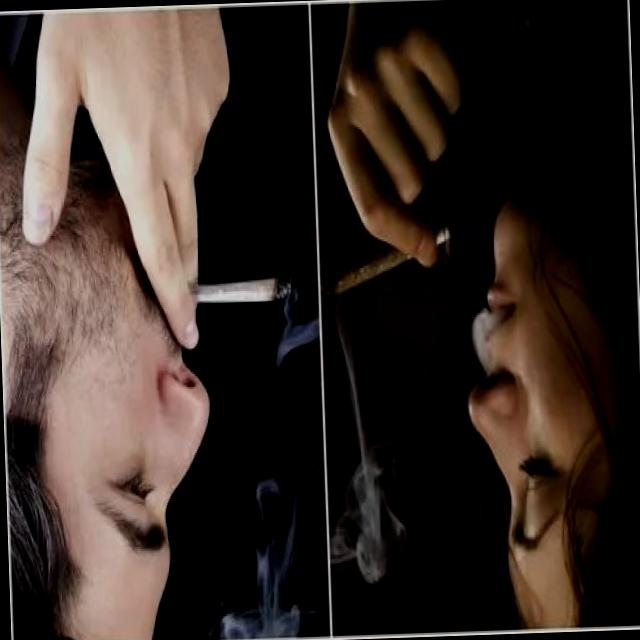smoke: (321, 222, 456, 298), (192, 266, 294, 310)
